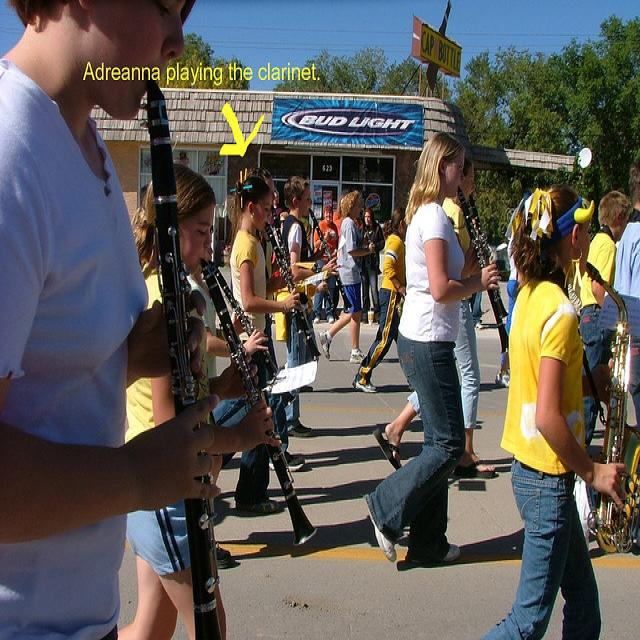clarinet: (144, 75, 225, 639), (196, 256, 321, 547), (454, 186, 514, 352), (270, 210, 322, 363), (264, 224, 310, 338), (308, 208, 355, 314), (469, 196, 498, 264), (360, 218, 382, 266)
saxophone: (581, 261, 640, 555)
